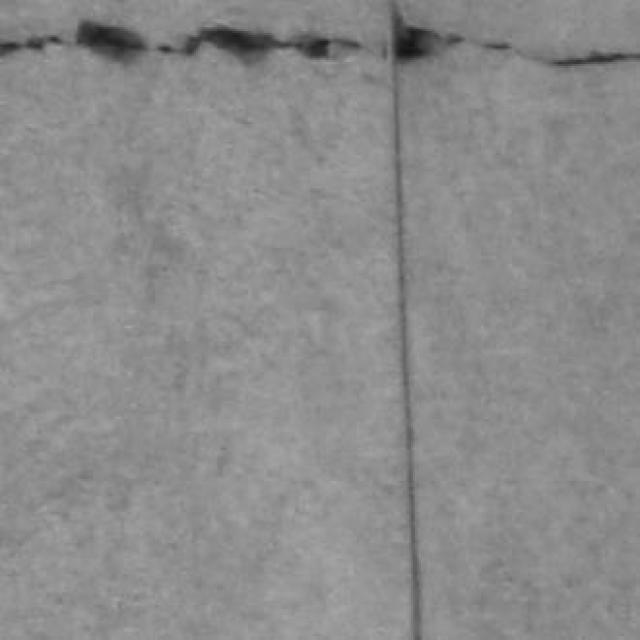crack: (0, 20, 364, 63), (0, 20, 362, 63), (396, 22, 639, 67), (181, 26, 362, 62)
